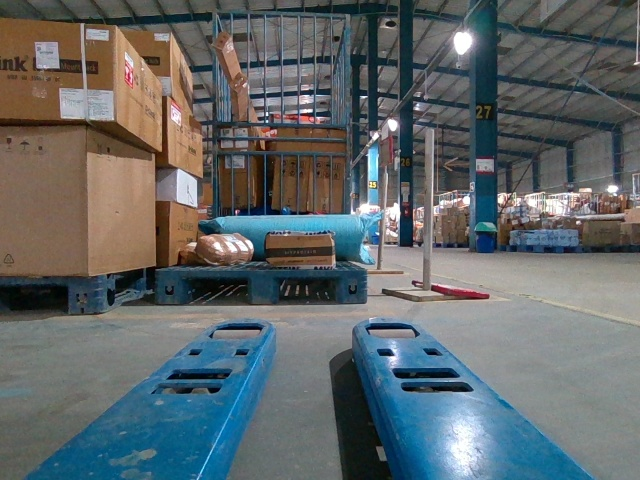pallet: (155, 267, 367, 302)
